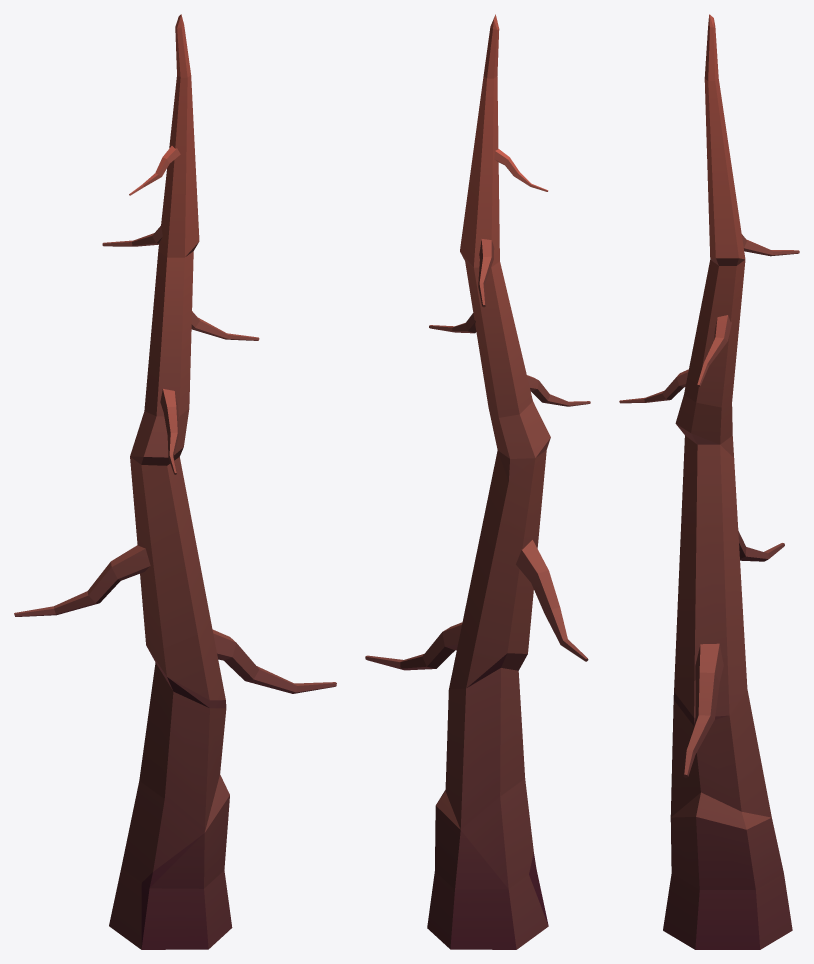
The model's file is pine6.glb.
The picture shows the model from 3 angles, left to right: view 1: azimuth 30°, elevation 25°; view 2: azimuth 150°, elevation 25°; view 3: azimuth 270°, elevation 25°; orthographic projection.
Visible parts, largest first — view 1: pine6; view 2: pine6; view 3: pine6.
Boxes of the visible parts, <box> form: pine6: <box>14,14,336,949</box>; pine6: <box>365,14,590,949</box>; pine6: <box>619,14,799,949</box>.
Bounding box in the file's own units: 2.93 × 9.41 × 1.68.
1 material, 1 textured.
